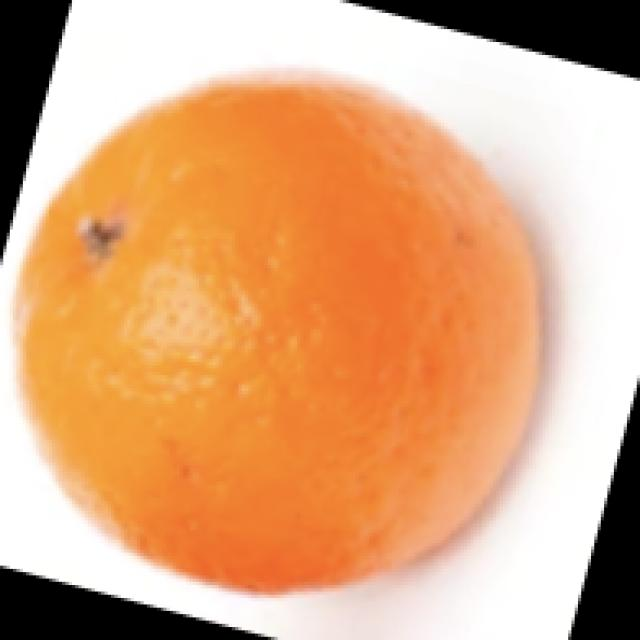fresh: (10, 61, 561, 605)
